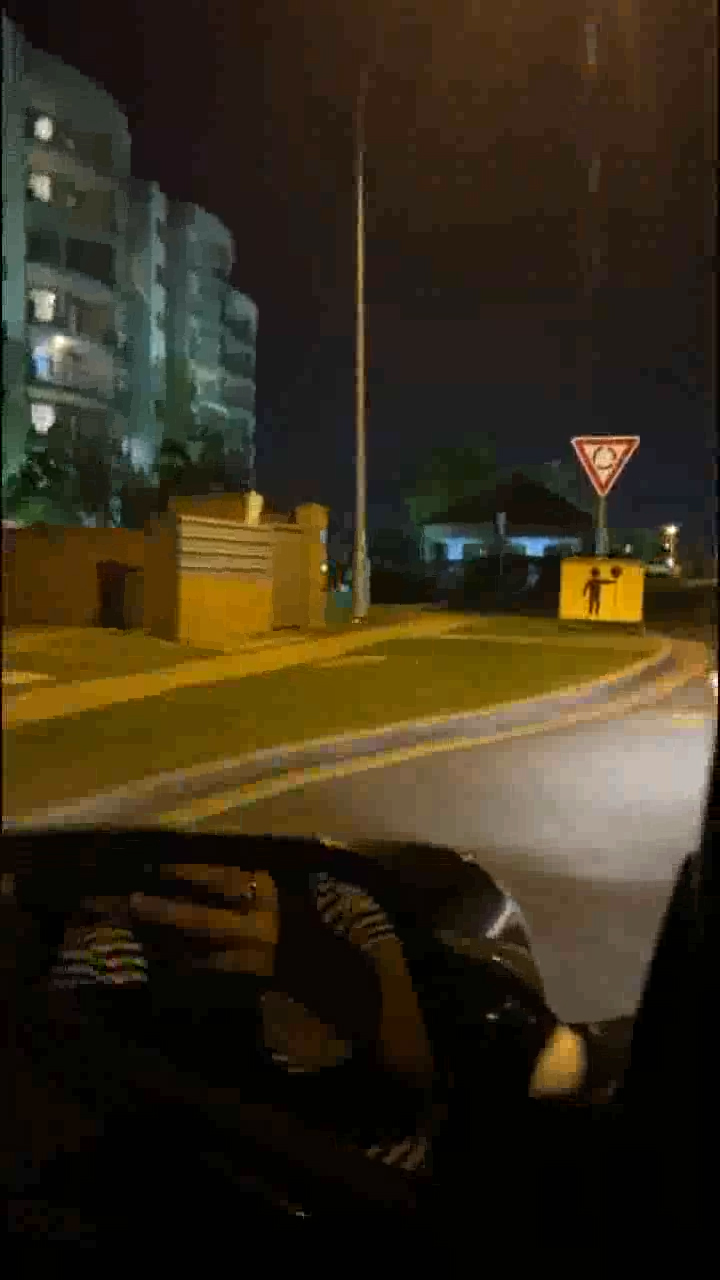prepare to stop board: (556, 558, 641, 618)
